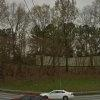Car: (36, 84, 76, 100)
